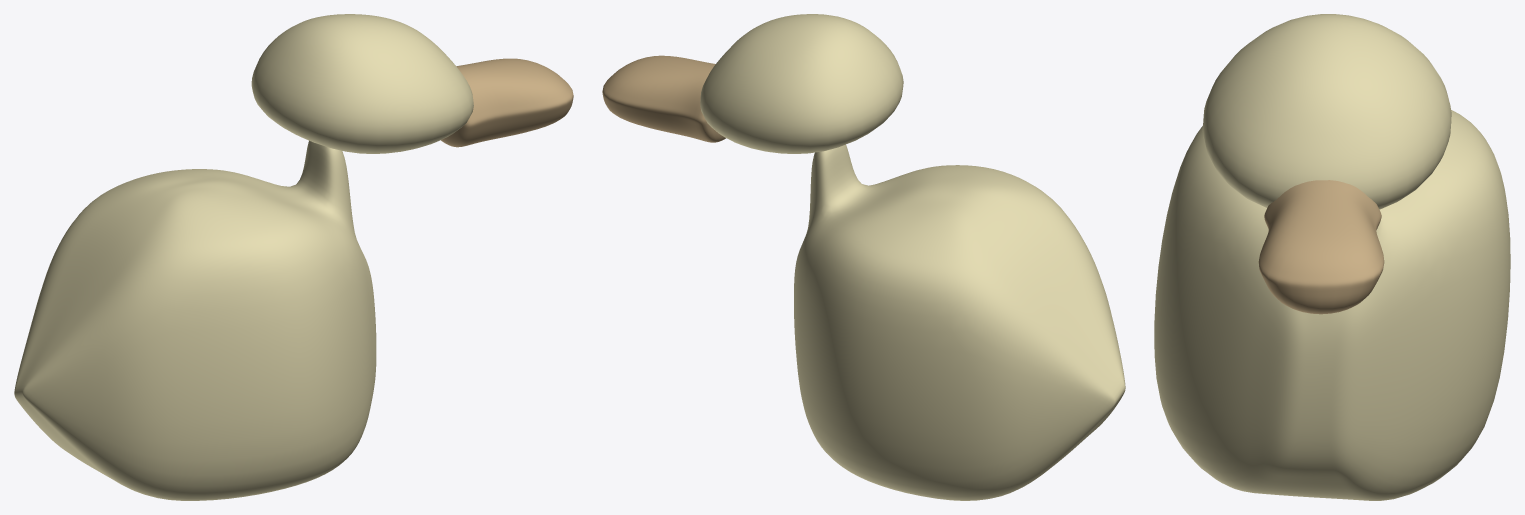
The model's file is babyYellowDuck_Anim.fbx.
3 renders of one model, left to right at view 1: azimuth 30°, elevation 25°; view 2: azimuth 150°, elevation 25°; view 3: azimuth 270°, elevation 25°, orthographic. The views are drawn at different scales.
Visible parts, largest first — view 1: polySurface7; view 2: polySurface7; view 3: polySurface7.
Part boxes in pixels (bbox=[...]): polySurface7: bbox=[14, 14, 573, 500]; polySurface7: bbox=[602, 14, 1125, 500]; polySurface7: bbox=[1154, 14, 1510, 500].
Size of the model in its own units: 5.06 by 3.76 by 2.38.
